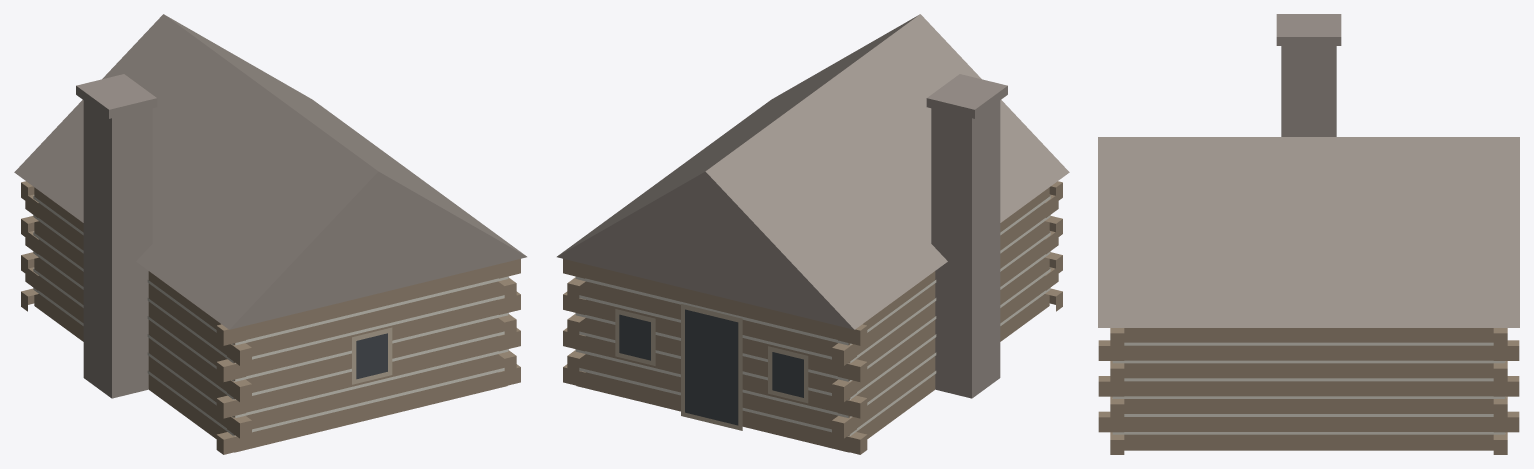
Rendered from recon_1835_blk_south_water_lasalle_d1_04__inferred_1835.glb.
3 views of the same model, side by side, from view 1: azimuth 30°, elevation 25°; view 2: azimuth 150°, elevation 25°; view 3: azimuth 270°, elevation 25° (orthographic). The views are drawn at different scales.
Parts seen in each view (by area): view 1: recon_1835_blk_south_water_lasalle_d1_04__inferred_1835; view 2: recon_1835_blk_south_water_lasalle_d1_04__inferred_1835; view 3: recon_1835_blk_south_water_lasalle_d1_04__inferred_1835.
Boxes of the visible parts, x1,y1,x2,y2 form: recon_1835_blk_south_water_lasalle_d1_04__inferred_1835: [14, 14, 526, 454]; recon_1835_blk_south_water_lasalle_d1_04__inferred_1835: [557, 14, 1069, 454]; recon_1835_blk_south_water_lasalle_d1_04__inferred_1835: [1098, 14, 1519, 454].
Bounding box in the file's own units: 6.41 × 5.52 × 7.29.
Materials: 1 (1 with a texture image).
